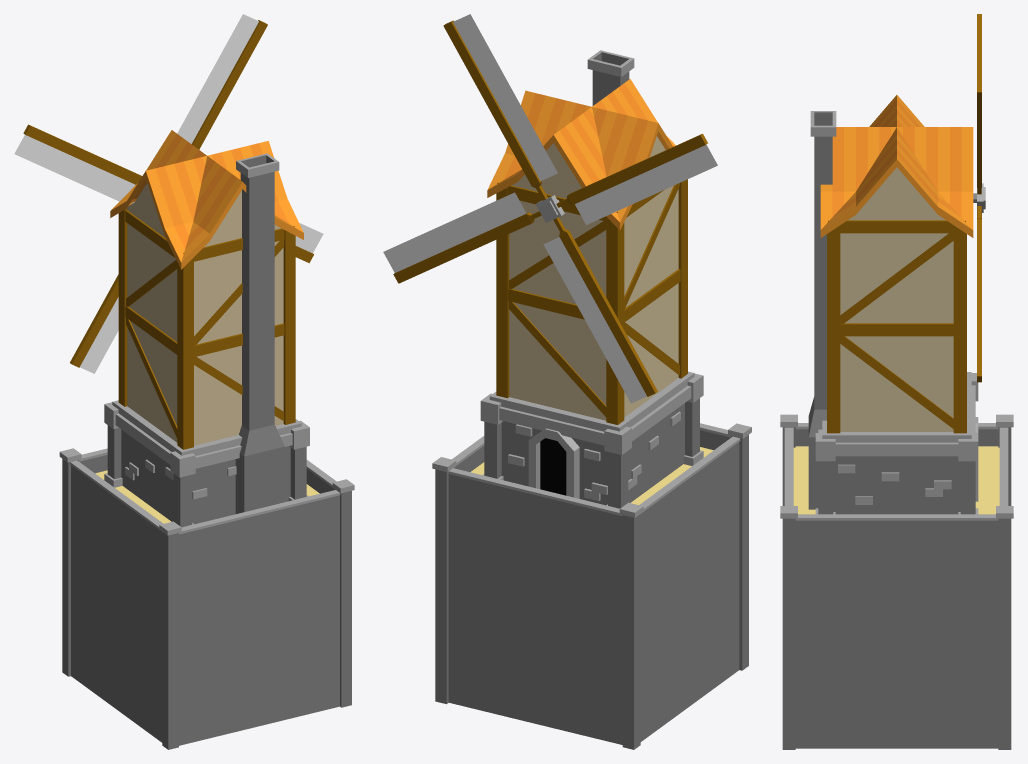
Rendered from mill.glb.gltf.
3 renders of one model, left to right at view 1: azimuth 30°, elevation 25°; view 2: azimuth 150°, elevation 25°; view 3: azimuth 270°, elevation 25°, orthographic. The views are drawn at different scales.
Visible parts, largest first — view 1: Plane, Cube, Cube.001; view 2: Plane, Cube, Cube.001; view 3: Cube, Plane, Cube.001.
Boxes of the visible parts, <box> form: Plane: <box>59,448,354,749</box>; Cube: <box>104,130,309,527</box>; Cube.001: <box>14,14,323,373</box>; Plane: <box>432,423,751,749</box>; Cube: <box>480,50,703,508</box>; Cube.001: <box>383,14,717,403</box>; Cube: <box>808,95,978,514</box>; Plane: <box>780,414,1013,749</box>; Cube.001: <box>973,14,985,382</box>.
Size of the model in its own units: 1.65 by 3.21 by 1.
1 material, 1 textured.
